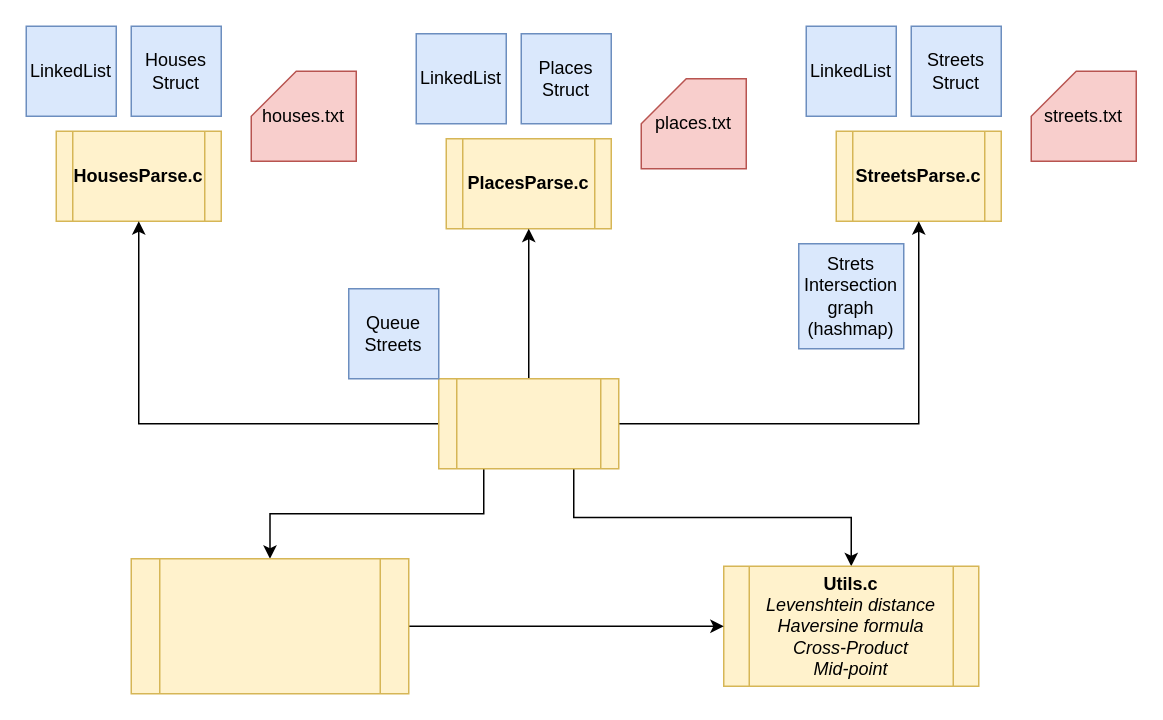
This 1163x720 diagram has some shape labels left out. Each missing label, with the centre of its shape:
"Main.c Input Processing Output" goes at (x=528, y=423).
"SearchAlgorithms.c Sequential/ Linear search Sorting BFS Basic BFS enhanced" goes at (x=269, y=625).
